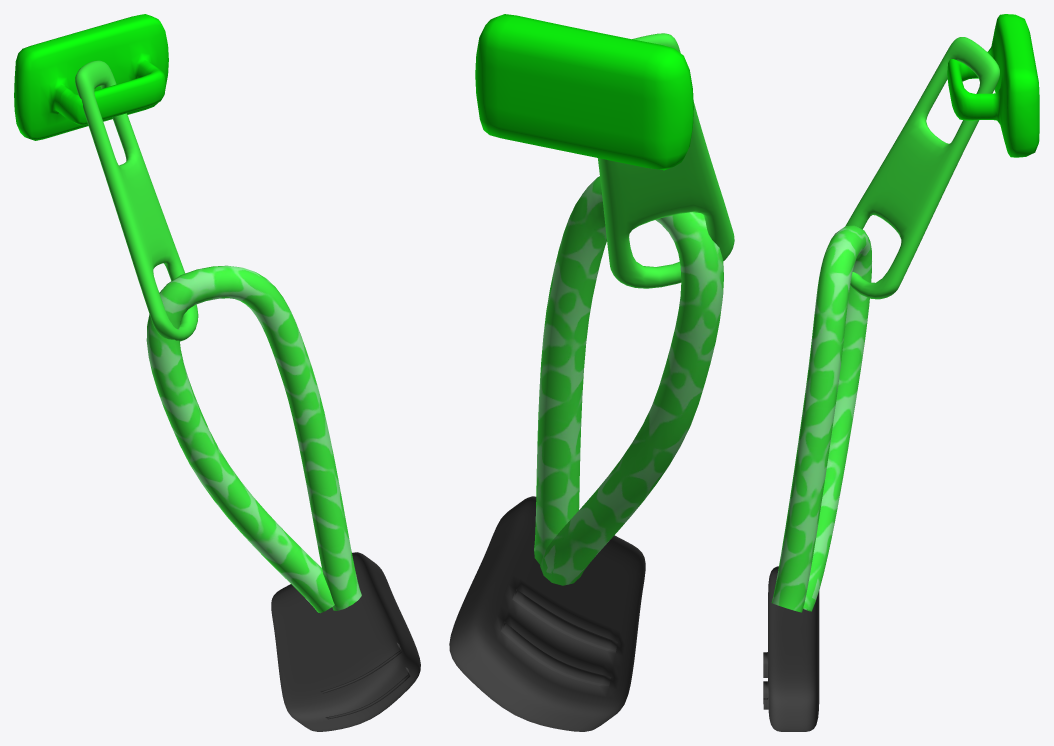
The model's file is Zipv2-transformed.glb.
3 renders of one model, left to right at view 1: azimuth 30°, elevation 25°; view 2: azimuth 150°, elevation 25°; view 3: azimuth 270°, elevation 25°, orthographic. The views are drawn at different scales.
Parts seen in each view (by area): view 1: zip string, Cube, zip base, zip hook; view 2: zip string, Cube, zip base, zip hook; view 3: zip string, zip hook, zip base, Cube.
Part boxes in pixels (box(x1,y1,x2,y2)): zip string: box(146, 265, 361, 613); Cube: box(271, 552, 420, 731); zip base: box(14, 14, 168, 140); zip hook: box(75, 60, 198, 341); zip string: box(534, 176, 723, 585); Cube: box(449, 496, 645, 731); zip base: box(475, 14, 693, 170); zip hook: box(598, 33, 734, 288); zip string: box(771, 225, 871, 612); zip hook: box(845, 37, 999, 299); zip base: box(947, 14, 1039, 157); Cube: box(763, 566, 819, 731).
Size of the model in its own units: 0.023 by 0.0491 by 0.02.
Materials: 4 (1 with a texture image).
